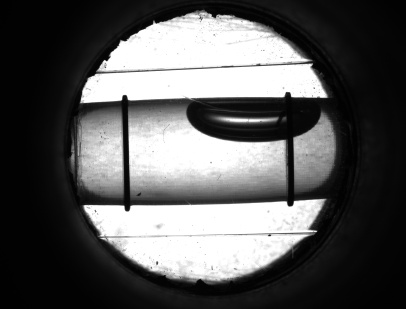line: (117, 116, 135, 189), (281, 143, 300, 187)
